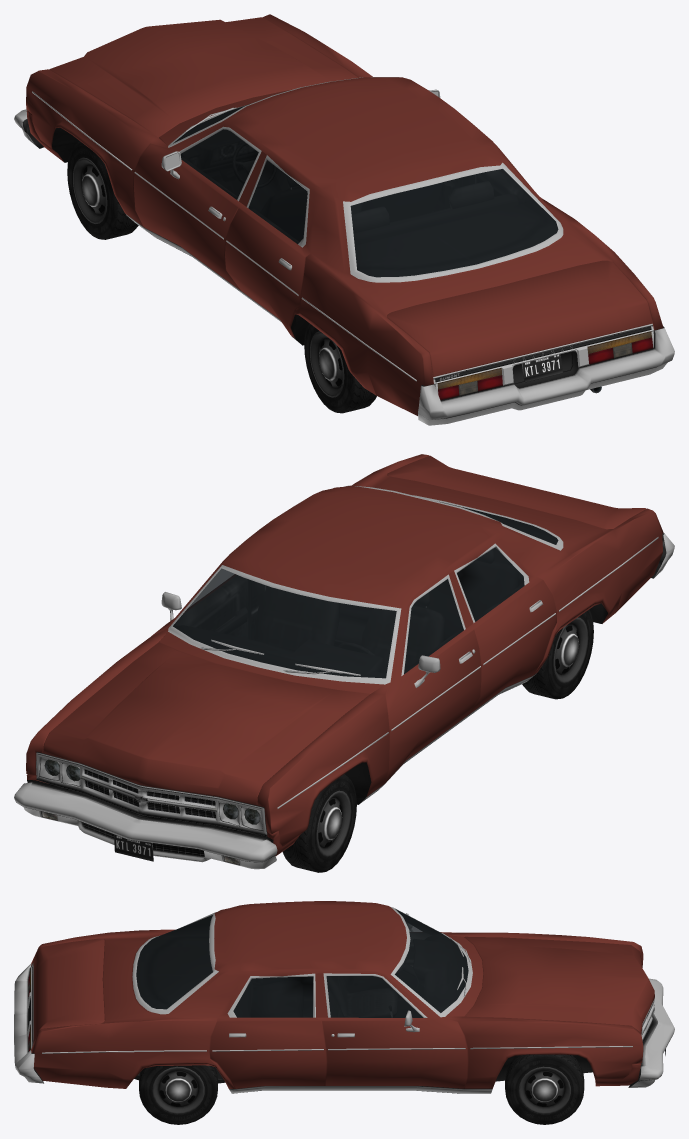
File: chapman_73.glb
3 renders of one model, top to bottom at view 1: azimuth 30°, elevation 25°; view 2: azimuth 150°, elevation 25°; view 3: azimuth 270°, elevation 25°, orthographic. The views are drawn at different scales.
Parts seen in each view (by area): view 1: vehicle; view 2: vehicle; view 3: vehicle.
Part boxes in pixels (<box>): vehicle: <box>14,14,674,425</box>; vehicle: <box>14,454,674,872</box>; vehicle: <box>14,901,674,1124</box>.
Bounding box in the file's own units: 2.12 × 1.42 × 5.67.
8 materials, 7 textured.
